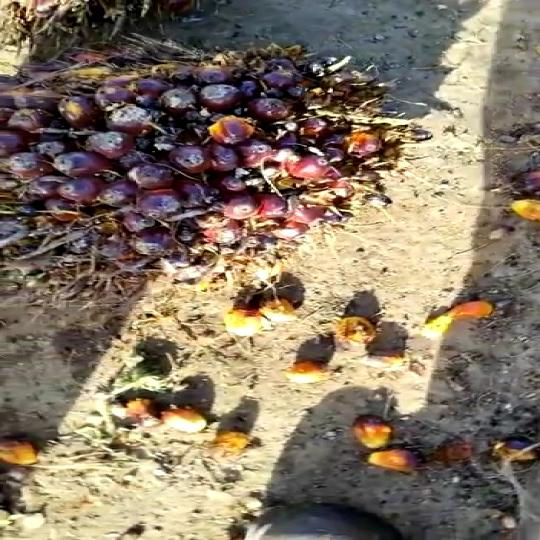masak: (0, 45, 431, 300)
